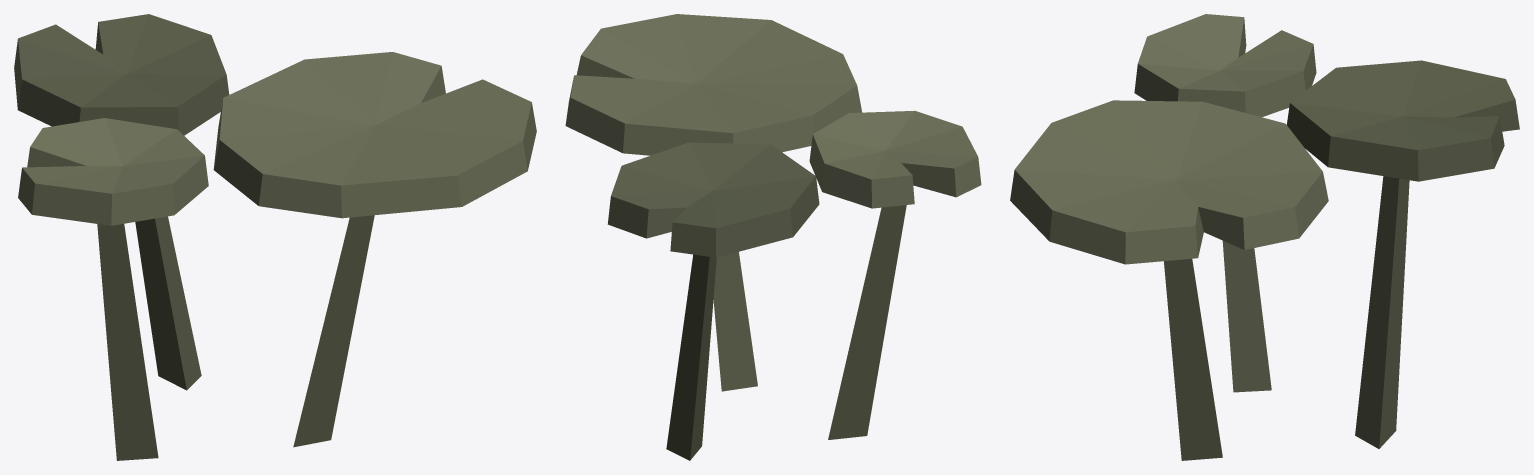
The model's file is ancient_SM_Env_Lillies_01.gltf.
3 renders of one model, left to right at view 1: azimuth 30°, elevation 25°; view 2: azimuth 150°, elevation 25°; view 3: azimuth 270°, elevation 25°, orthographic. The views are drawn at different scales.
Visible parts, largest first — view 1: SM_Env_Lillies_01; view 2: SM_Env_Lillies_01; view 3: SM_Env_Lillies_01.
Boxes of the visible parts, <box> form: SM_Env_Lillies_01: <box>14,14,536,460</box>; SM_Env_Lillies_01: <box>565,14,981,460</box>; SM_Env_Lillies_01: <box>1010,14,1519,460</box>.
Bounding box in the file's own units: 0.7015 × 0.461 × 0.68.
1 material, 1 textured.
